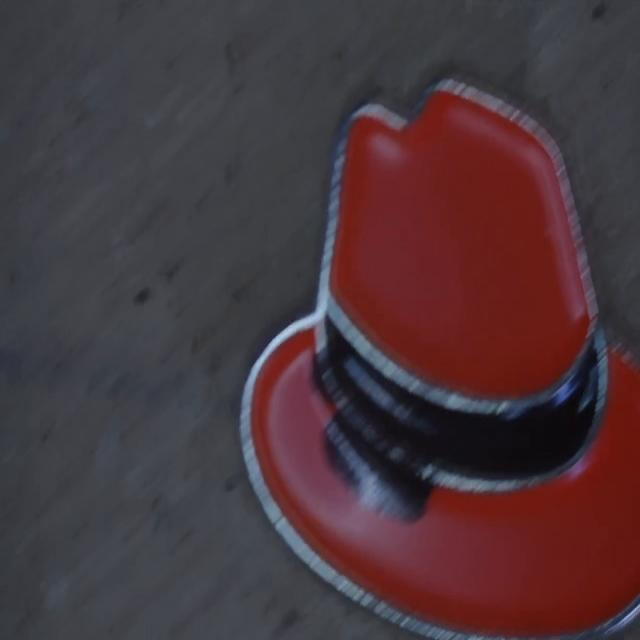Hatband: (318, 298, 608, 490)
Paint_Leak: (325, 413, 431, 519)
RedHatPin: (241, 80, 640, 636)
